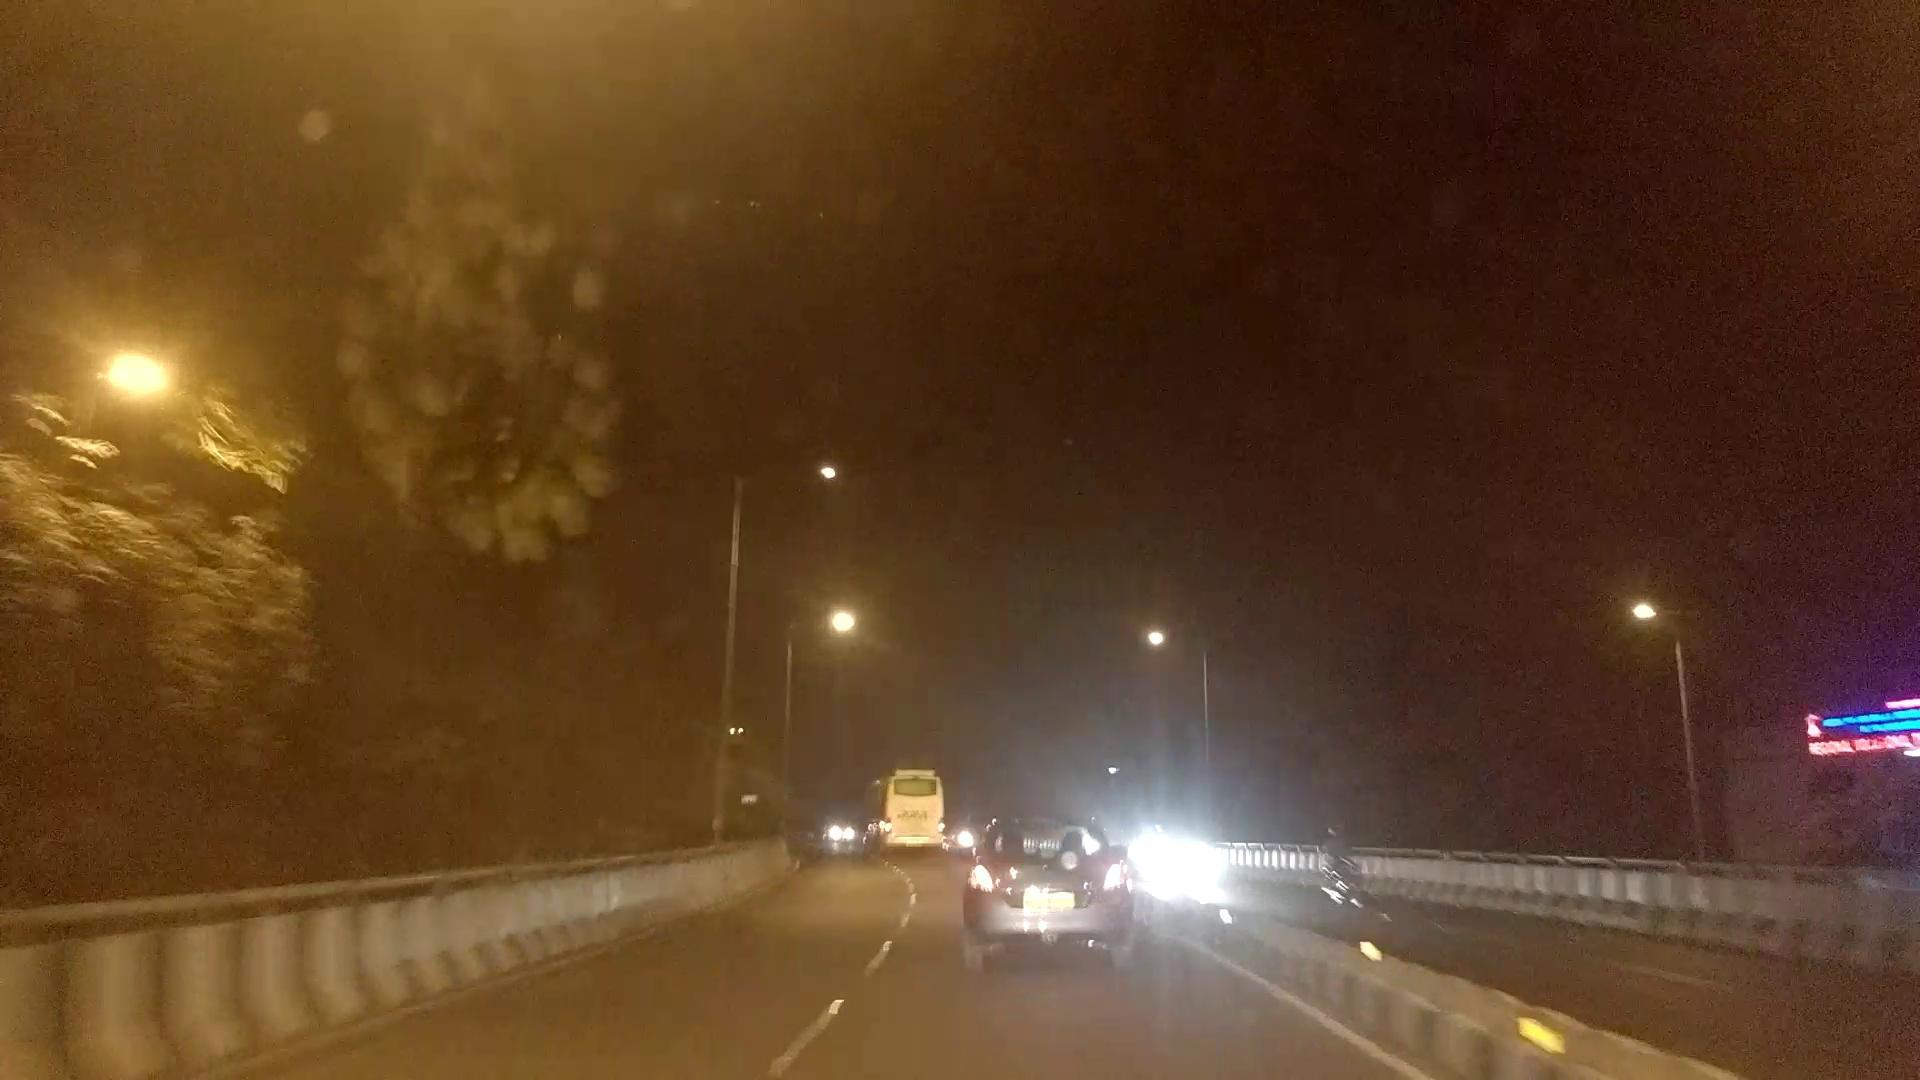on: (0, 182, 455, 571)
